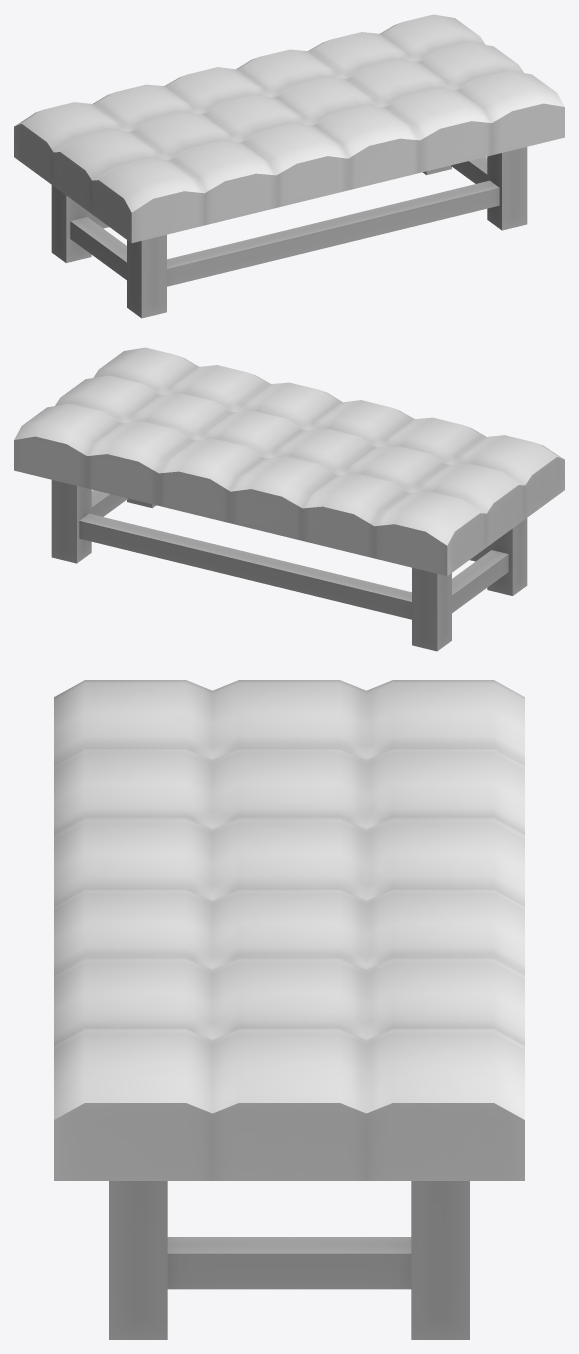
Rendered from Pfb_CoatHanger__2.fbx.
3 renders of one model, top to bottom at view 1: azimuth 30°, elevation 25°; view 2: azimuth 150°, elevation 25°; view 3: azimuth 270°, elevation 25°, orthographic. The views are drawn at different scales.
Parts seen in each view (by area): view 1: MAT_Coathanger_Dark_M; view 2: MAT_Coathanger_Dark_M; view 3: MAT_Coathanger_Dark_M.
Boxes of the visible parts, x1,y1,x2,y2 form: MAT_Coathanger_Dark_M: (14,14,564,318); MAT_Coathanger_Dark_M: (14,347,564,651); MAT_Coathanger_Dark_M: (54,680,524,1339).
Size of the model in its own units: 1.41 by 0.4327 by 0.6638.
1 material, 1 textured.
